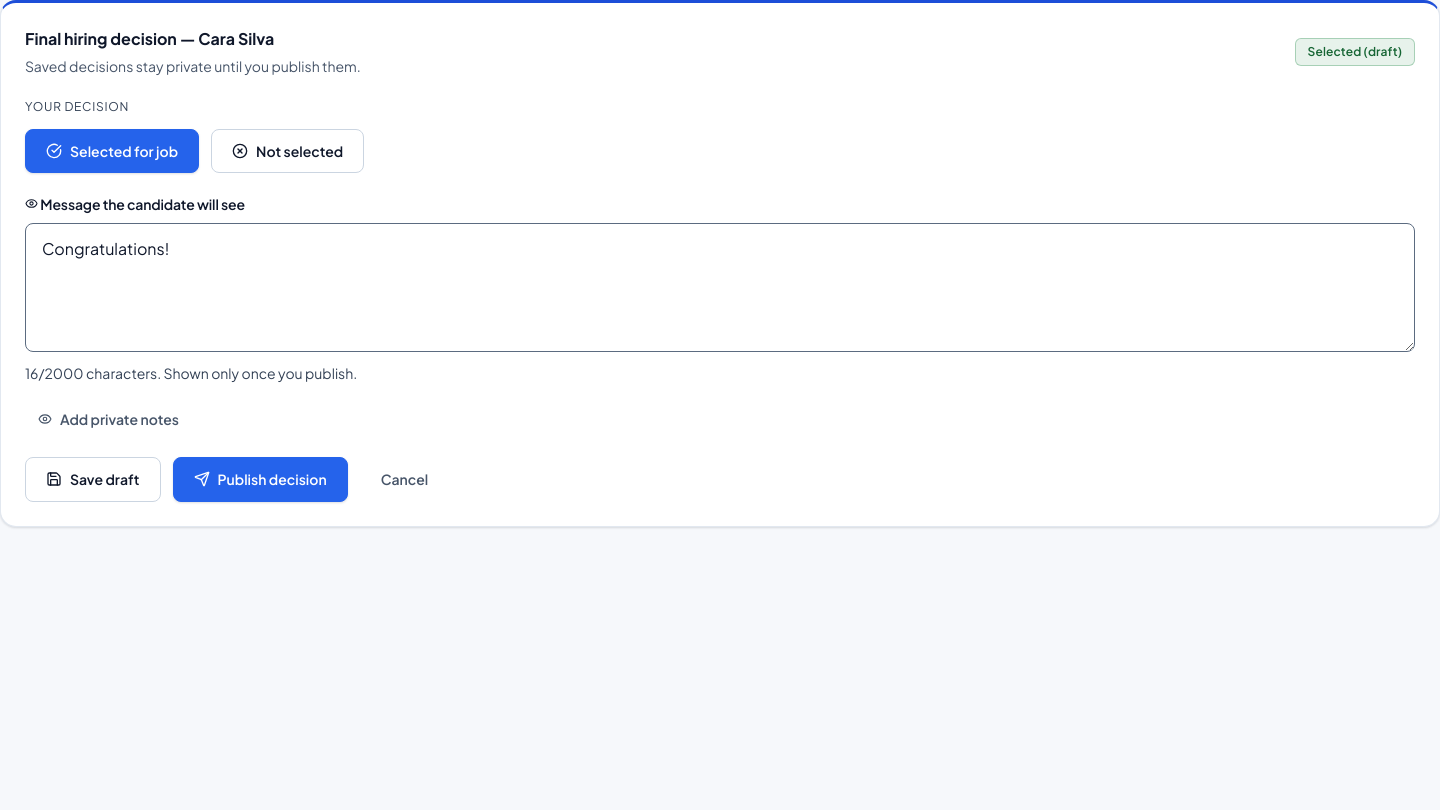
switching the decision › a saved draft is treated as the recruiter's own words
Click the button "Not selected" at (288, 151), box [211,129,364,173]
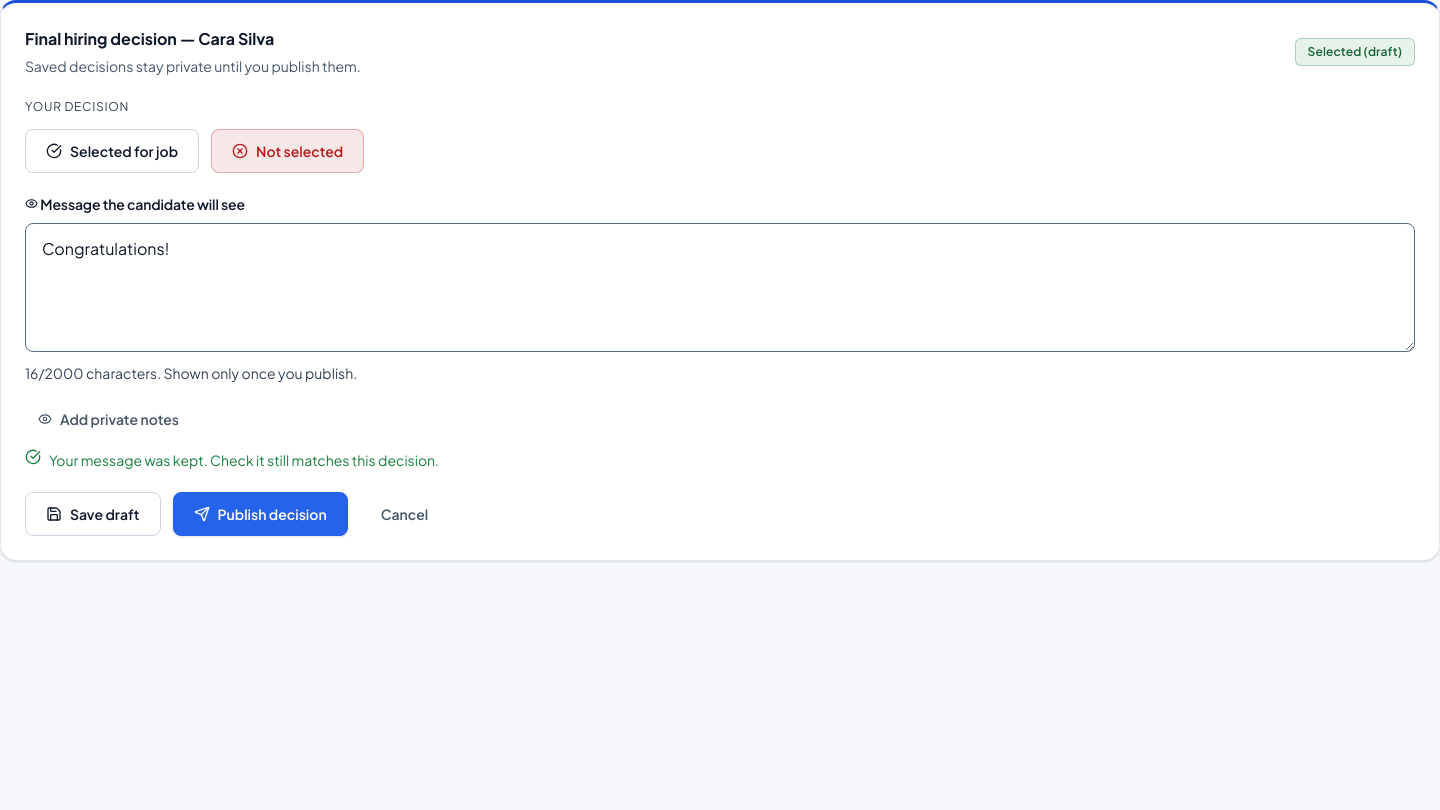
expect the text box with id "feedback-77" holds "Congratulations!": met, box [25,223,1415,352]
expect the text "still matches this decision" is shown: met, box [49,451,439,469]
